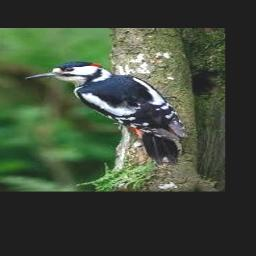Woodpecker: (25, 61, 189, 165)
